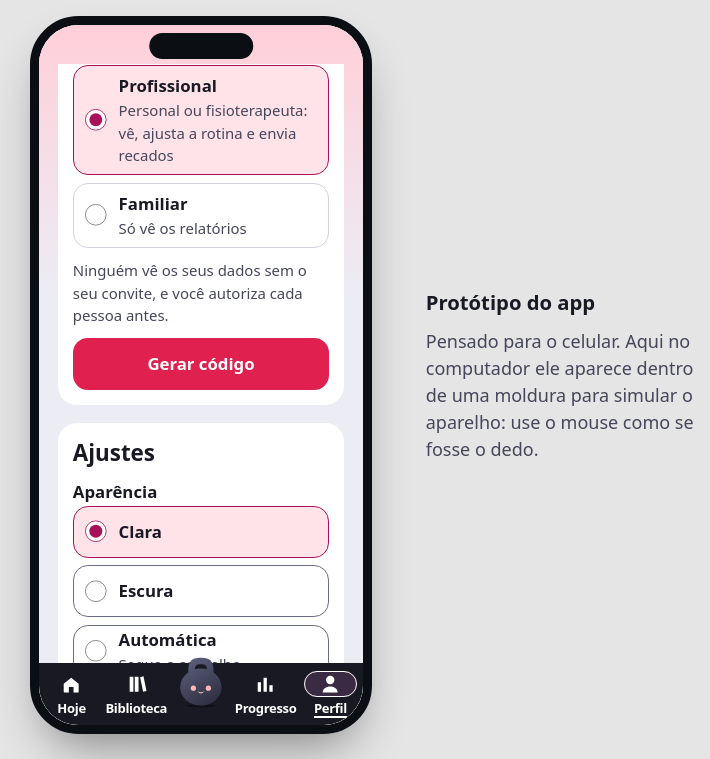
Test: convidar por link › ao gerar, mostra o link completo do convite com o código
(page scrolled)
What coordinates should you click on to do the following:
click the button "Gerar código"
I would click on:
 (201, 364)
Its box is x1=73 y1=338 x2=329 y2=390.
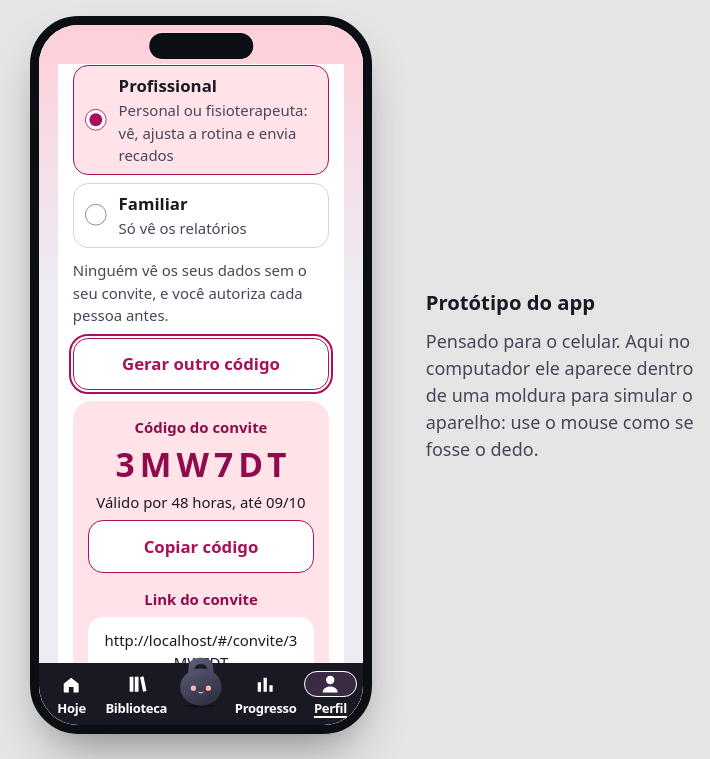
Check: the text "Link do convite" is shown, box x1=144 y1=588 x2=258 y2=610
